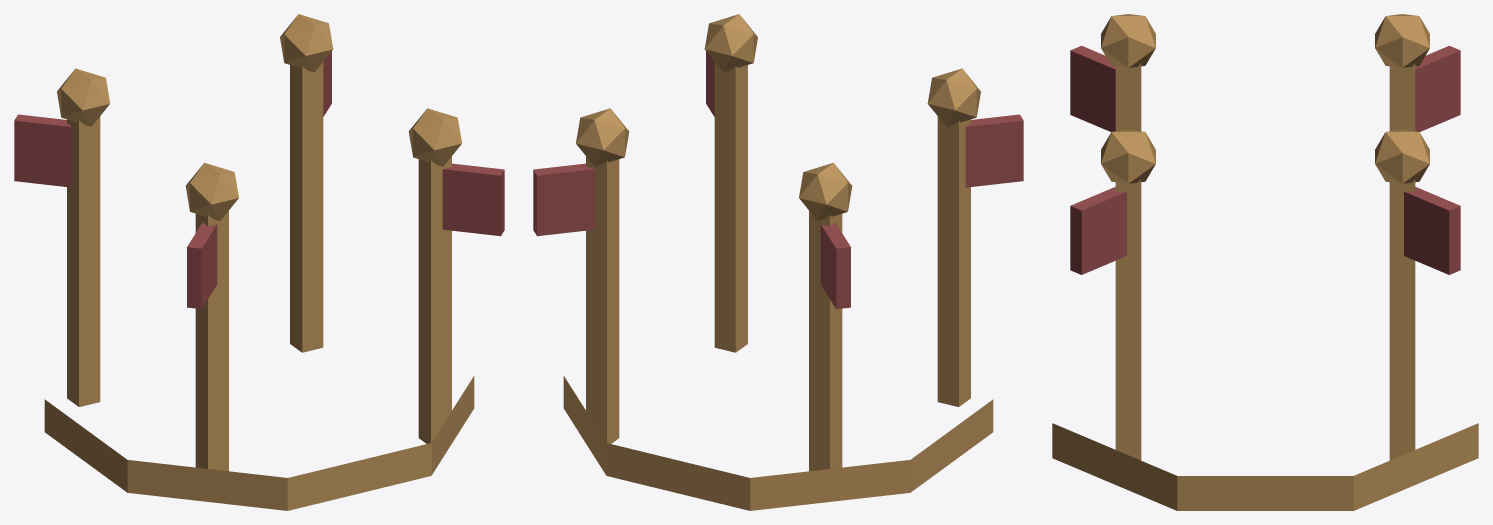
The model's file is standard.glb.
3 views of the same model, side by side, from view 1: azimuth 30°, elevation 25°; view 2: azimuth 150°, elevation 25°; view 3: azimuth 270°, elevation 25° (orthographic). The views are drawn at different scales.
Visible parts, largest first — view 1: Band, Pole3, Pole2, Pole0, Pole1, Flag0, Flag2, Flag1, Fin3, Fin1, Fin2, Fin0; view 2: Band, Pole0, Pole1, Pole3, Pole2, Flag3, Flag1, Flag2, Fin0, Fin1, Fin2, Fin3; view 3: Band, Pole0, Pole3, Flag0, Flag3, Flag1, Flag2, Fin0, Fin3, Fin1, Fin2, Pole1 (+1 smaller).
Boxes of the visible parts, left/top/right/bottom form: Band: left=44, top=376, right=474, bottom=510; Pole3: left=290, top=62, right=323, bottom=352; Pole2: left=67, top=116, right=100, bottom=406; Pole0: left=418, top=156, right=451, bottom=443; Pole1: left=195, top=211, right=228, bottom=471; Flag0: left=442, top=163, right=504, bottom=236; Flag2: left=14, top=114, right=72, bottom=187; Flag1: left=187, top=222, right=217, bottom=309; Fin3: left=280, top=14, right=333, bottom=72; Fin1: left=185, top=162, right=238, bottom=220; Fin2: left=57, top=68, right=110, bottom=126; Fin0: left=408, top=108, right=461, bottom=166; Band: left=563, top=376, right=993, bottom=510; Pole0: left=714, top=62, right=747, bottom=352; Pole1: left=937, top=116, right=970, bottom=406; Pole3: left=586, top=156, right=619, bottom=443; Pole2: left=809, top=211, right=842, bottom=471; Flag3: left=533, top=163, right=595, bottom=236; Flag1: left=965, top=114, right=1023, bottom=187; Flag2: left=820, top=222, right=850, bottom=309; Fin0: left=704, top=14, right=757, bottom=72; Fin1: left=927, top=68, right=980, bottom=126; Fin2: left=799, top=162, right=852, bottom=220; Fin3: left=576, top=108, right=629, bottom=166; Band: left=1052, top=423, right=1478, bottom=510; Pole0: left=1115, top=179, right=1141, bottom=460; Pole3: left=1389, top=179, right=1415, bottom=460; Flag0: left=1070, top=187, right=1126, bottom=274; Flag3: left=1404, top=187, right=1460, bottom=274; Flag1: left=1070, top=45, right=1115, bottom=131; Flag2: left=1415, top=45, right=1460, bottom=131; Fin0: left=1101, top=130, right=1155, bottom=183; Fin3: left=1375, top=130, right=1429, bottom=183; Fin1: left=1101, top=14, right=1155, bottom=67; Fin2: left=1375, top=14, right=1429, bottom=67; Pole1: left=1115, top=64, right=1141, bottom=131.
Size of the model in its own units: 1.32 by 1.19 by 1.32.
